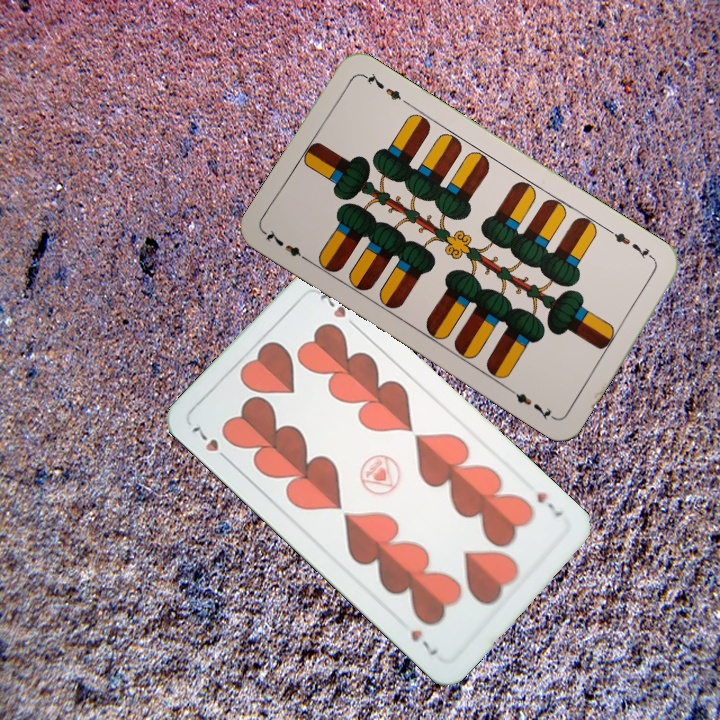E7: (261, 225, 313, 266), (605, 226, 658, 264)
H7: (187, 420, 234, 466), (533, 488, 566, 521)
